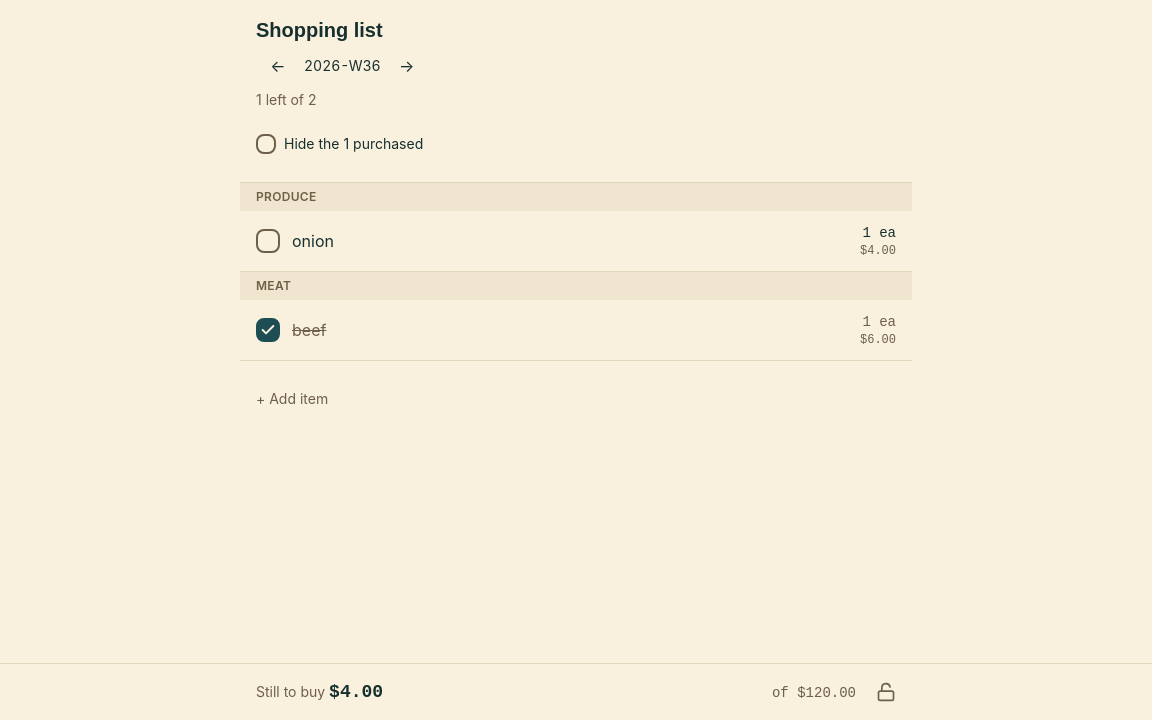
Test: hiding what is already purchased › takes bought items out of the aisles
Expected: the checkbox labelled "beef 1 ea $6.00" is shown, x1=256 y1=318 x2=280 y2=342
Step 1. Click the checkbox labelled "Hide the 1 purchased" → (266, 144), box x1=256 y1=134 x2=276 y2=154
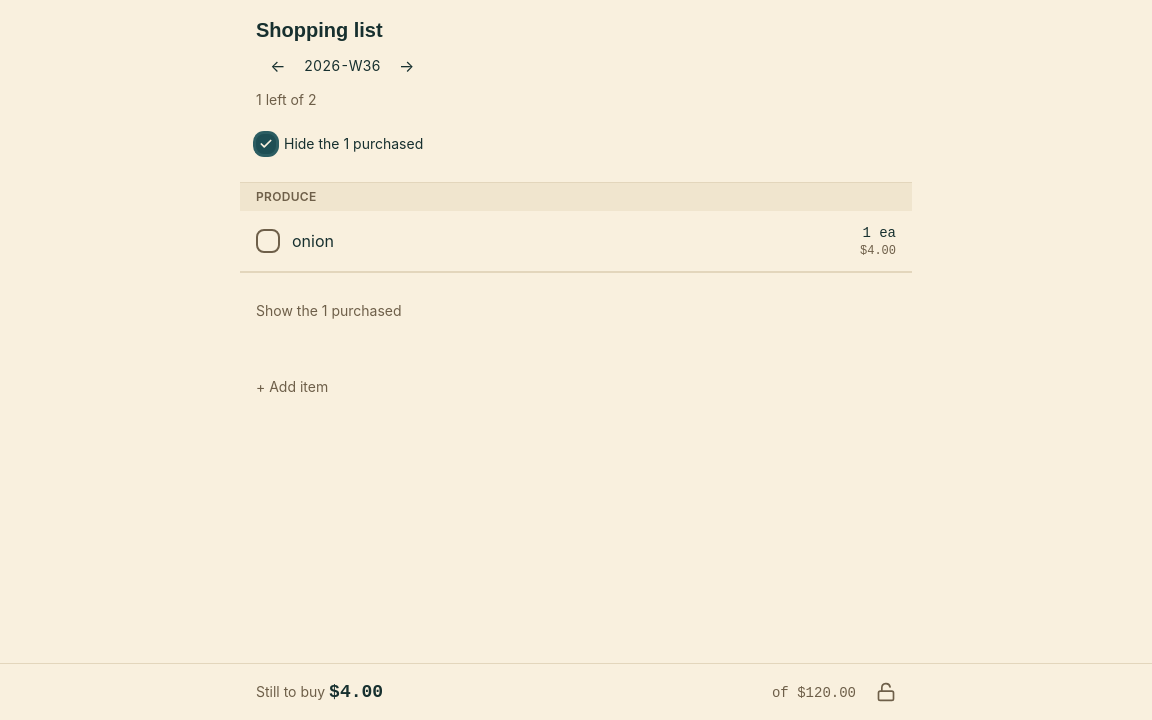
Expected: the checkbox labelled "onion 1 ea $4.00" is shown, x1=256 y1=229 x2=280 y2=253
Now the text "beef" is gone
